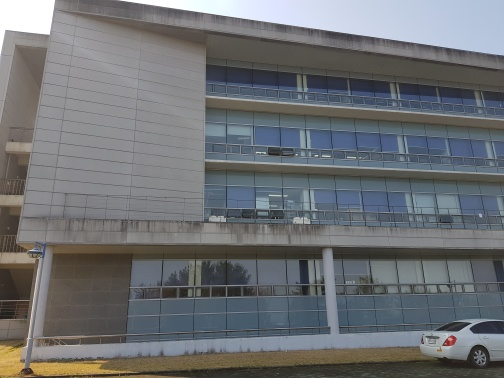Engineering College Building 4: (4, 13, 497, 355), (64, 27, 495, 309)
